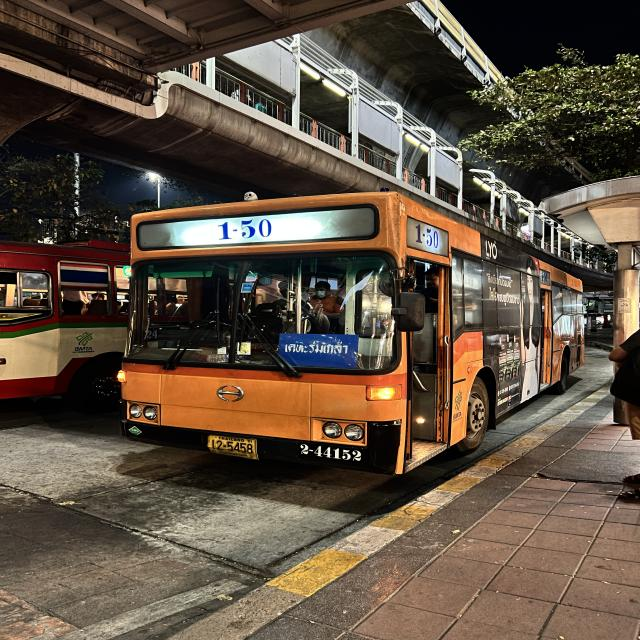BMTA-bus: (118, 192, 588, 476), (0, 239, 128, 409)
Bus Line Number: (210, 216, 276, 241)
Bus Side Number: (295, 443, 367, 466)
Destination Sign: (274, 332, 361, 369)
